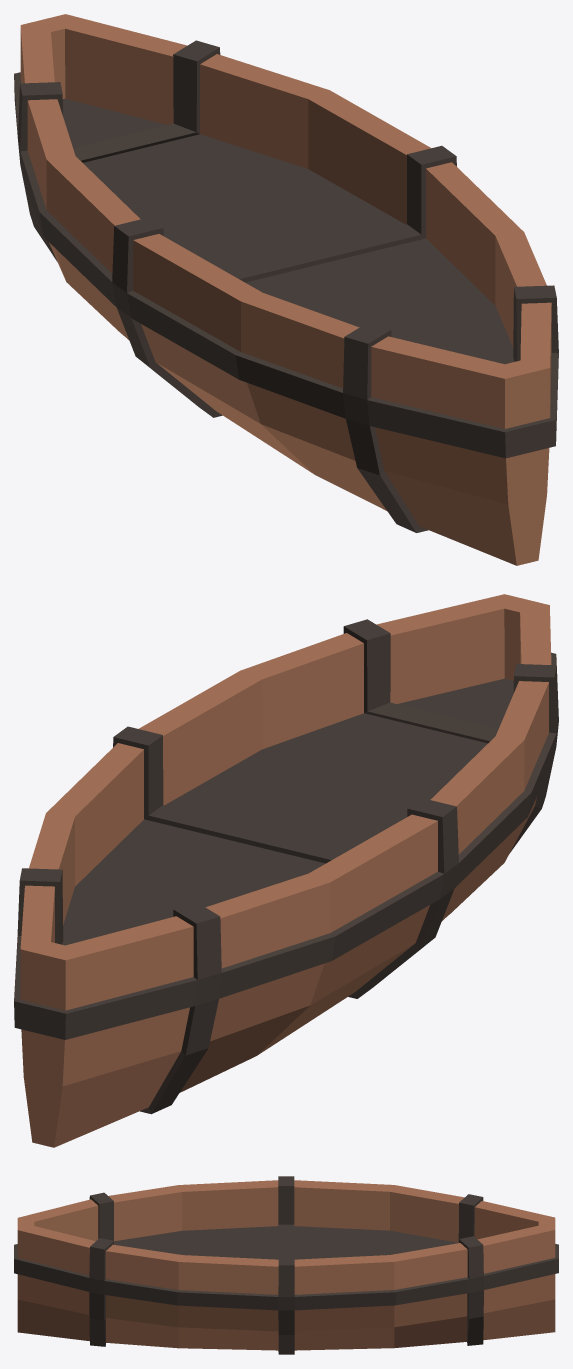
Rendered from 004 Boat.FBX.
3 renders of one model, top to bottom at view 1: azimuth 30°, elevation 25°; view 2: azimuth 150°, elevation 25°; view 3: azimuth 270°, elevation 25°, orthographic. The views are drawn at different scales.
Visible parts, largest first — view 1: Box474; view 2: Box474; view 3: Box474.
Part boxes in pixels (<box>): Box474: <box>14,14,558,565</box>; Box474: <box>14,594,558,1147</box>; Box474: <box>14,1176,558,1354</box>.
Size of the model in its own units: 138 by 80.13 by 352.
